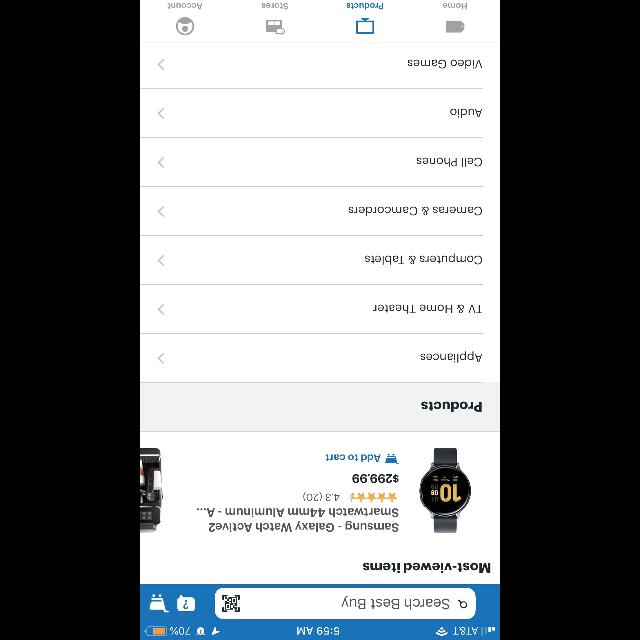icon: (346, 492, 396, 502), (176, 17, 194, 35), (150, 594, 168, 612), (178, 594, 195, 612), (446, 21, 464, 33), (385, 454, 399, 464), (158, 156, 165, 168), (158, 254, 165, 266), (158, 206, 165, 217), (158, 352, 165, 363), (458, 600, 467, 608), (158, 60, 165, 70), (158, 304, 165, 314), (158, 108, 164, 119)
image: (419, 448, 471, 532), (140, 448, 163, 532), (222, 594, 240, 612), (356, 18, 374, 34), (266, 20, 284, 34)
input: (215, 588, 475, 618)
text: (197, 508, 399, 532), (364, 562, 491, 574), (341, 596, 449, 610), (364, 253, 482, 264), (348, 207, 482, 216), (373, 304, 482, 314), (420, 352, 482, 362), (421, 402, 481, 412), (408, 60, 482, 68), (416, 158, 482, 166), (326, 454, 380, 462), (353, 473, 399, 482), (302, 492, 340, 502), (450, 109, 482, 118), (346, 3, 384, 9), (168, 3, 202, 9), (262, 3, 288, 9), (443, 3, 467, 9)
uppertaskbar: (140, 626, 500, 640)
